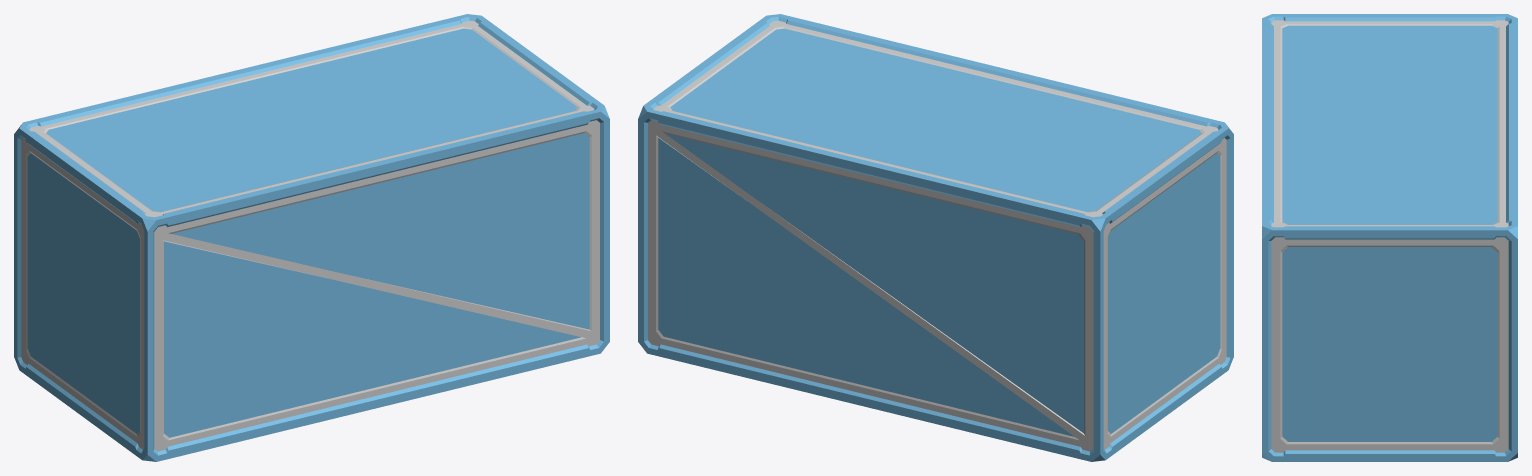
Rendered from crate blue huge.fbx.
3 renders of one model, left to right at view 1: azimuth 30°, elevation 25°; view 2: azimuth 150°, elevation 25°; view 3: azimuth 270°, elevation 25°, orthographic. The views are drawn at different scales.
Visible parts, largest first — view 1: Crate Huge.001; view 2: Crate Huge.001; view 3: Crate Huge.001.
Part boxes in pixels (<box>): Crate Huge.001: <box>14,14,609,461</box>; Crate Huge.001: <box>638,14,1233,461</box>; Crate Huge.001: <box>1262,14,1517,461</box>.
Bounding box in the file's own units: 400 × 200 × 200.
